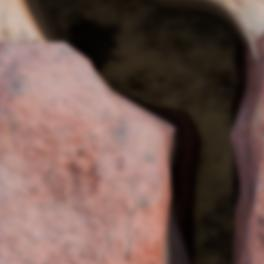broken_brick: (0, 40, 161, 263), (246, 83, 263, 263), (254, 30, 263, 64)
crack: (0, 0, 263, 263)
